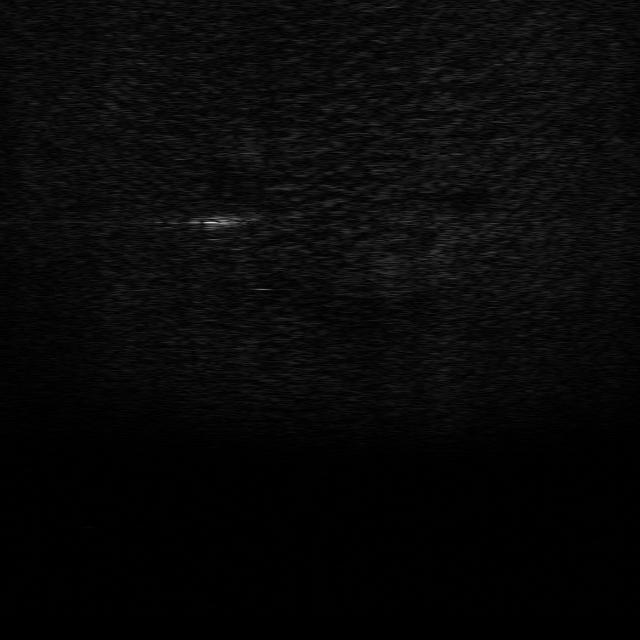plane: (192, 198, 268, 238)
